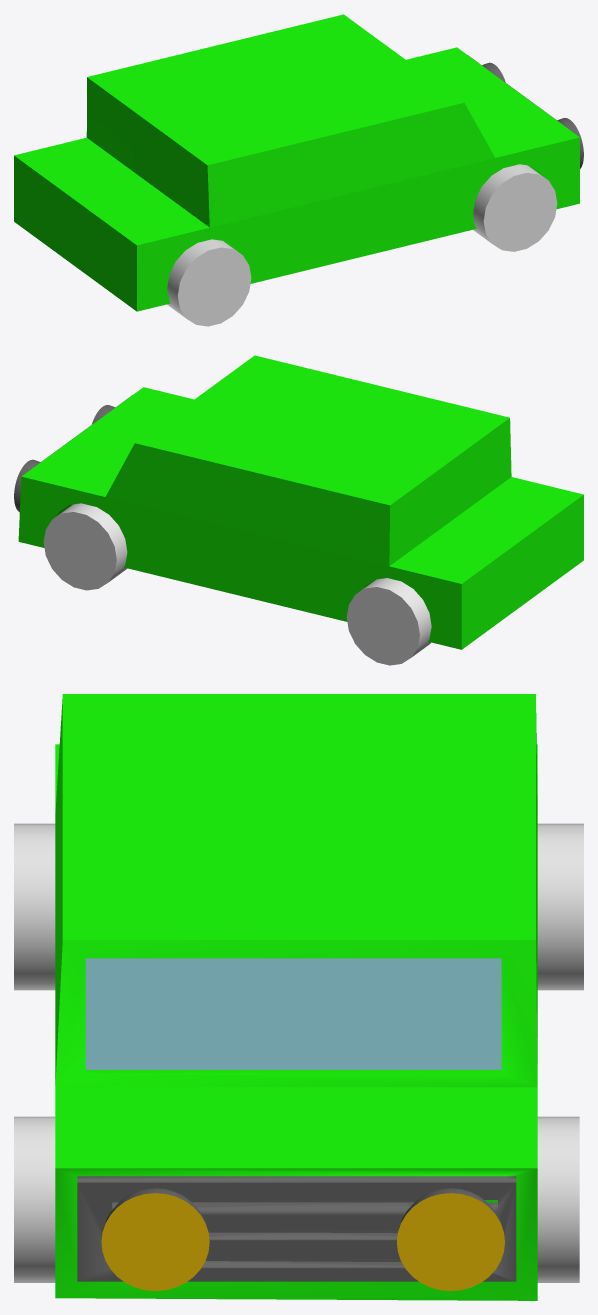
File: car_1.fbx
The picture shows the model from 3 angles, top to bottom: view 1: azimuth 30°, elevation 25°; view 2: azimuth 150°, elevation 25°; view 3: azimuth 270°, elevation 25°; orthographic projection. The views are drawn at different scales.
Parts seen in each view (by area): view 1: Box001, Cylinder008, Cylinder006; view 2: Box001, Cylinder005, Cylinder007; view 3: Box001, Cylinder005, Cylinder007, Cylinder006, Cylinder008.
Boxes of the visible parts, box(x1,y1,x2,y2) form: Box001: box(14, 14, 583, 311); Cylinder008: box(473, 164, 557, 251); Cylinder006: box(167, 239, 251, 326); Box001: box(14, 355, 583, 649); Cylinder005: box(346, 578, 431, 665); Cylinder007: box(43, 503, 127, 590); Box001: box(55, 694, 537, 1300); Cylinder005: box(537, 823, 583, 990); Cylinder007: box(537, 1116, 579, 1282); Cylinder006: box(14, 823, 55, 990); Cylinder008: box(14, 1116, 55, 1282).
Bounding box in the file's own units: 130 × 40.36 × 71.26.
